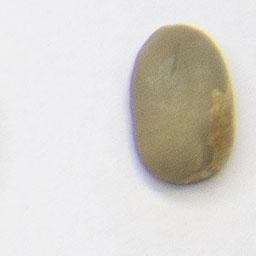longberry: (126, 21, 237, 188)
